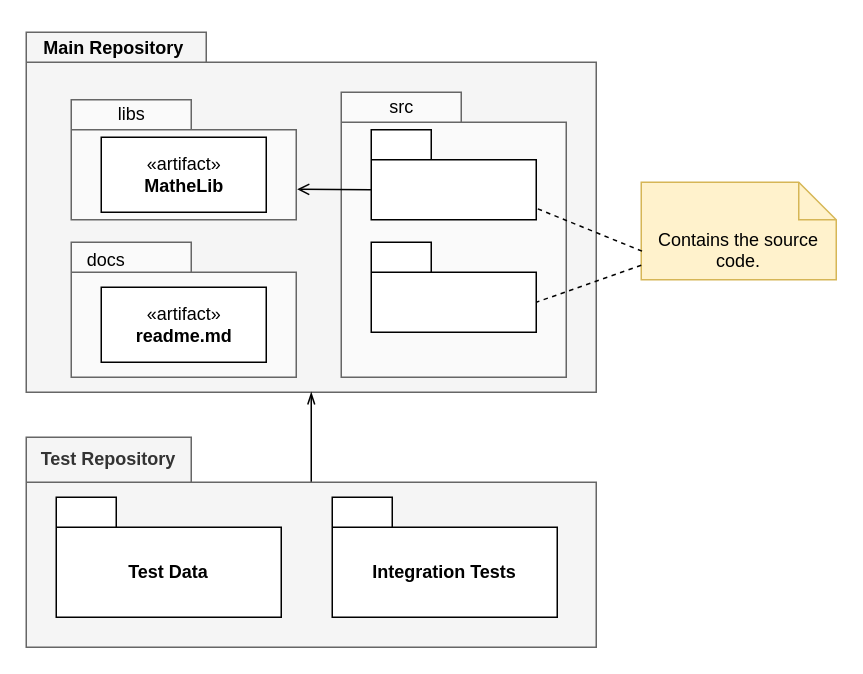
This 863x674 diagram has some shape labels left out. The centre of each missing label's shape, as x and y in pixels:
Client: (x=453, y=286)
Server: (x=453, y=174)
